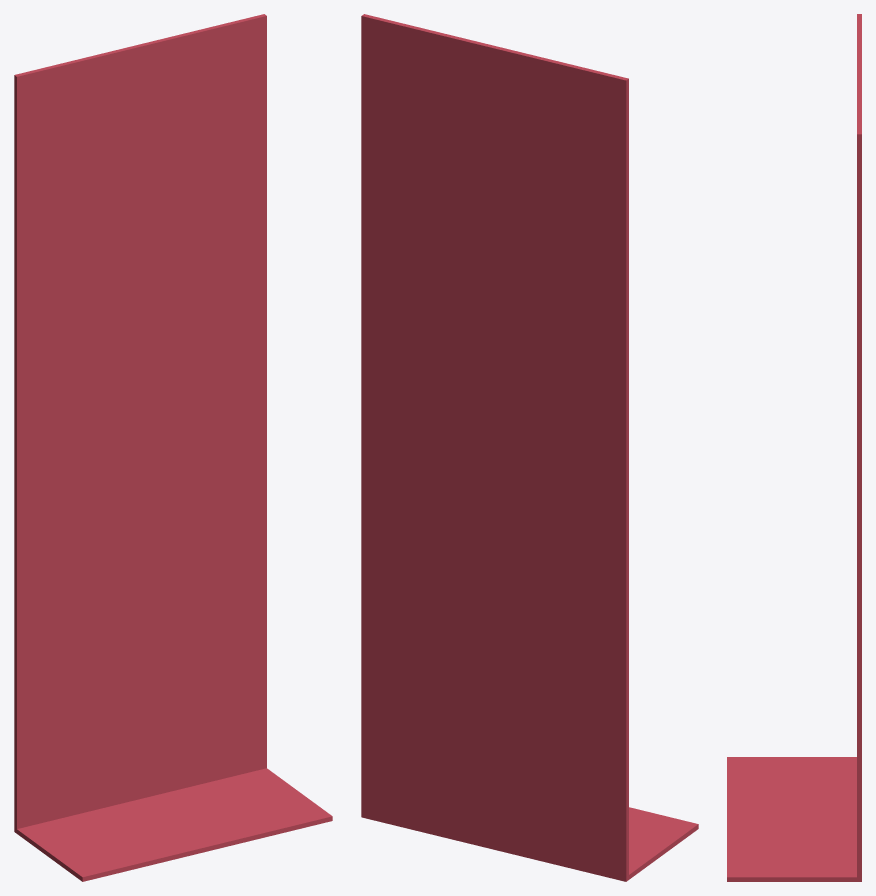
3 views of the same model, side by side, from view 1: azimuth 30°, elevation 25°; view 2: azimuth 150°, elevation 25°; view 3: azimuth 270°, elevation 25° (orthographic). The views are drawn at different scales.
Visible parts, largest first — view 1: Mesh_Mesh_head_geo.001_lambert2SG.001; view 2: Mesh_Mesh_head_geo.001_lambert2SG.001; view 3: Mesh_Mesh_head_geo.001_lambert2SG.001.
Part boxes in pixels (x1=…): Mesh_Mesh_head_geo.001_lambert2SG.001: x1=14, y1=14, x2=332, y2=881; Mesh_Mesh_head_geo.001_lambert2SG.001: x1=361, y1=14, x2=698, y2=881; Mesh_Mesh_head_geo.001_lambert2SG.001: x1=727, y1=14, x2=861, y2=881.
Bounding box in the file's own units: 0.028 × 0.081 × 0.0133.
